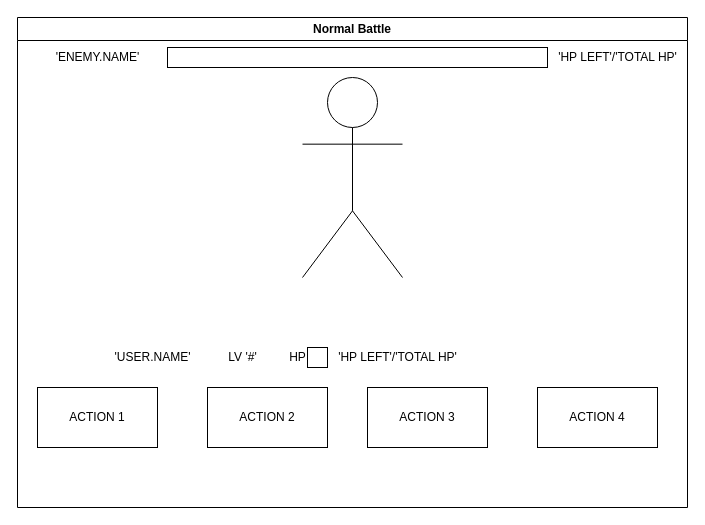
Some shapes in this 705 by 525 pixel diagram are drawn without their labels. Each missing label, with the box of its shape:
Enemy: (302, 76, 402, 278)
ENEMY HP: (166, 46, 548, 68)
